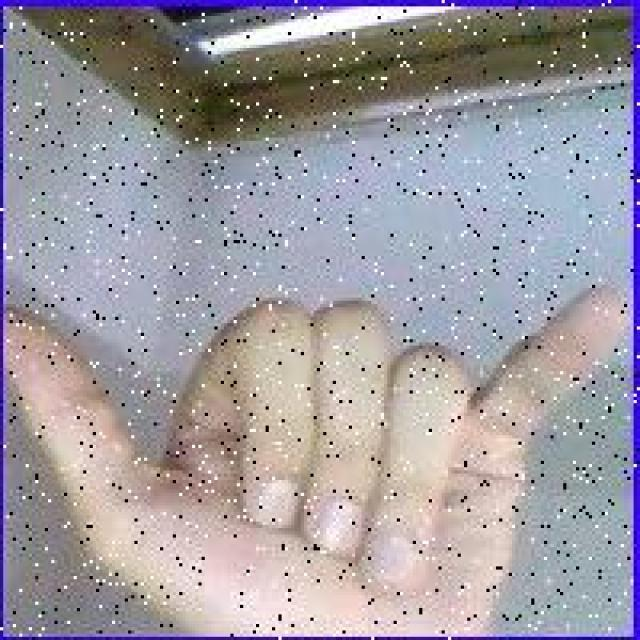Y: (8, 266, 632, 627)
